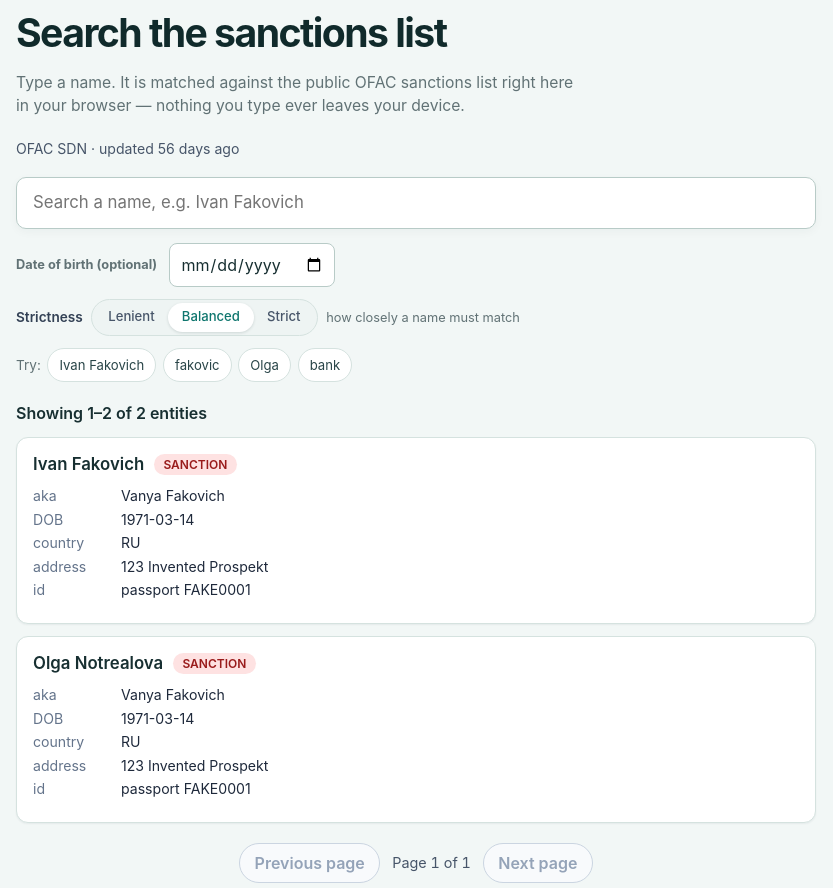
Test: ScreenPage — in-browser search › shows a clean no-match for an unrelated query
Type "zxqw" into the search field with placeholder "Search a name, e.g. Ivan Fakovich" at (416, 203), box x1=16 y1=177 x2=816 y2=229
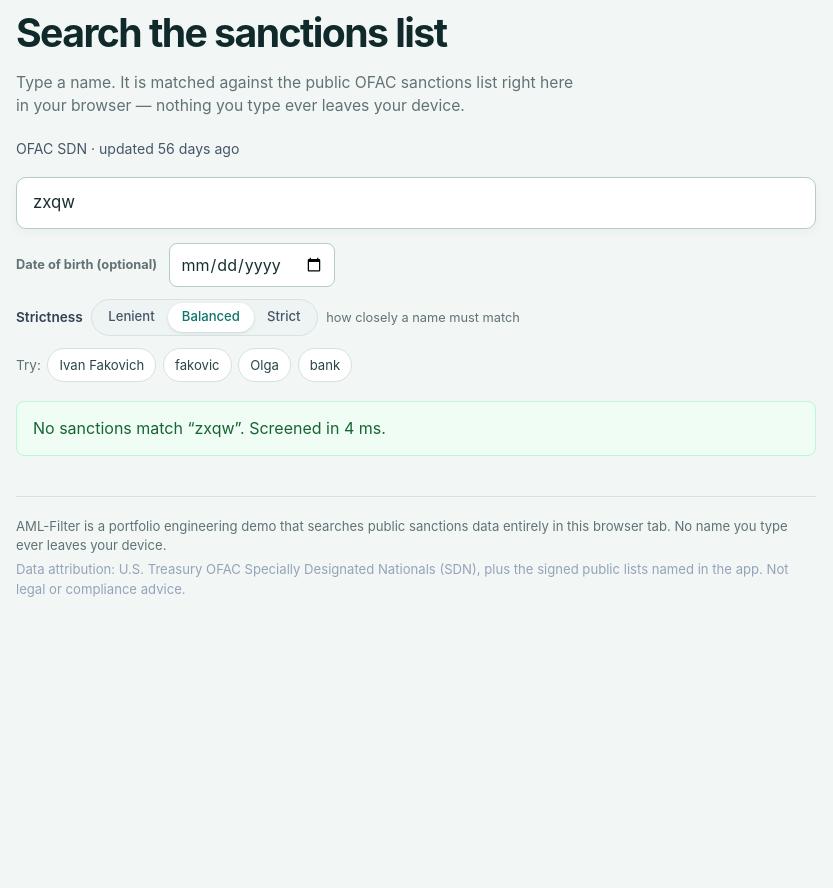
Now the text "No sanctions match “zxqw”. Screened in 4 ms." is shown, box x1=16 y1=401 x2=816 y2=456
